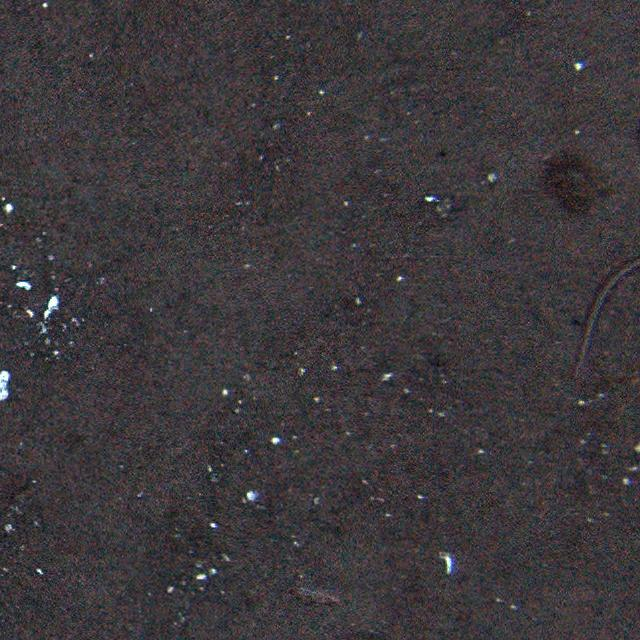eel: (576, 246, 638, 373)
